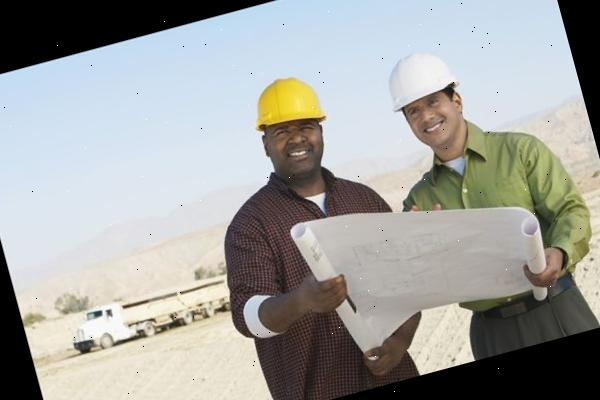helmet: (374, 42, 467, 116), (247, 68, 334, 140)
no_wear: (212, 175, 382, 400), (406, 117, 586, 252)
